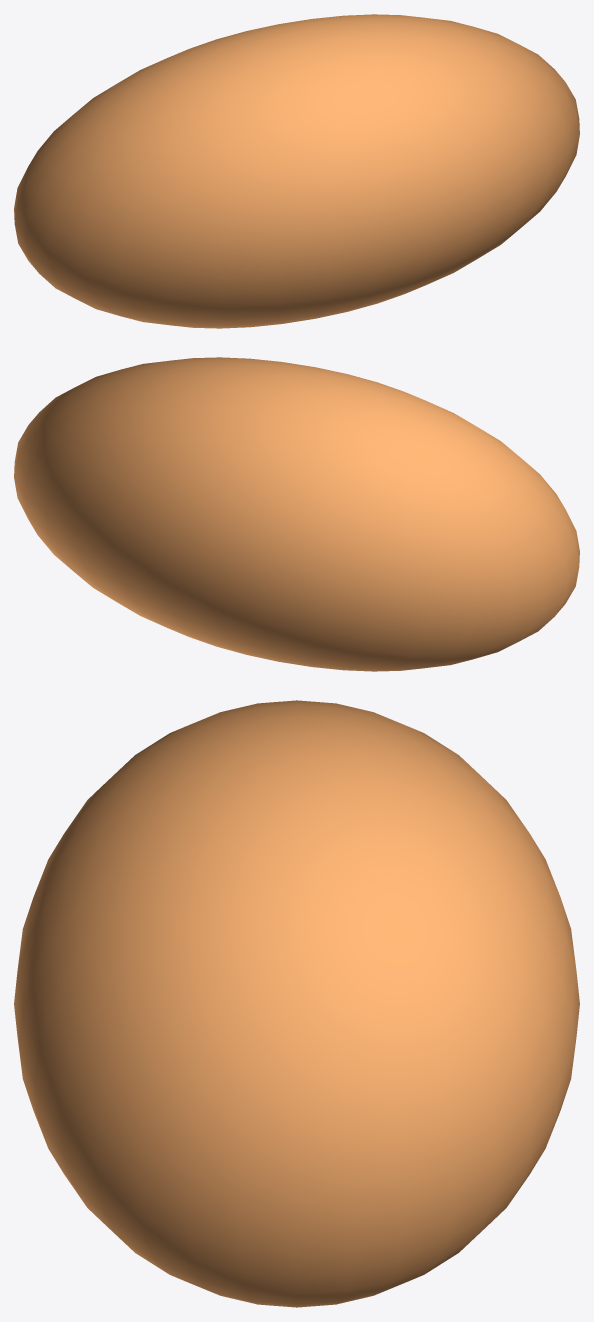
Rendered from mitochondrion.glb.
The picture shows the model from 3 angles, top to bottom: view 1: azimuth 30°, elevation 25°; view 2: azimuth 150°, elevation 25°; view 3: azimuth 270°, elevation 25°; orthographic projection. The views are drawn at different scales.
Parts seen in each view (by area): view 1: Mitochondrion Outer Membrane; view 2: Mitochondrion Outer Membrane; view 3: Mitochondrion Outer Membrane.
Boxes of the visible parts, x1=… form: Mitochondrion Outer Membrane: x1=14, y1=14, x2=579, y2=328; Mitochondrion Outer Membrane: x1=14, y1=357, x2=579, y2=671; Mitochondrion Outer Membrane: x1=14, y1=700, x2=579, y2=1307.
Size of the model in its own units: 1.24 by 0.56 by 0.68.
